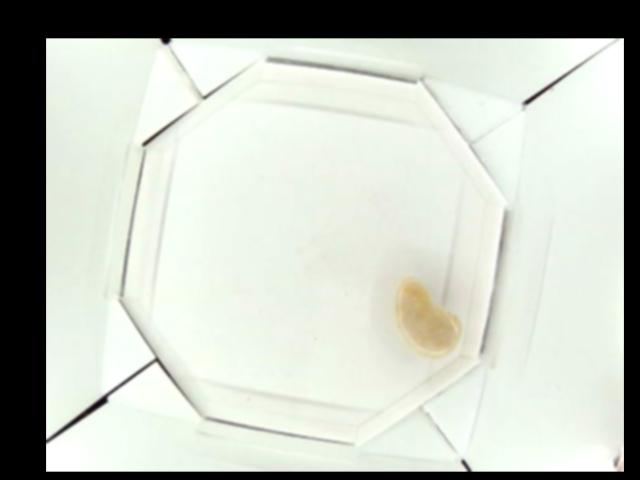Pebble: (398, 281, 461, 359)
